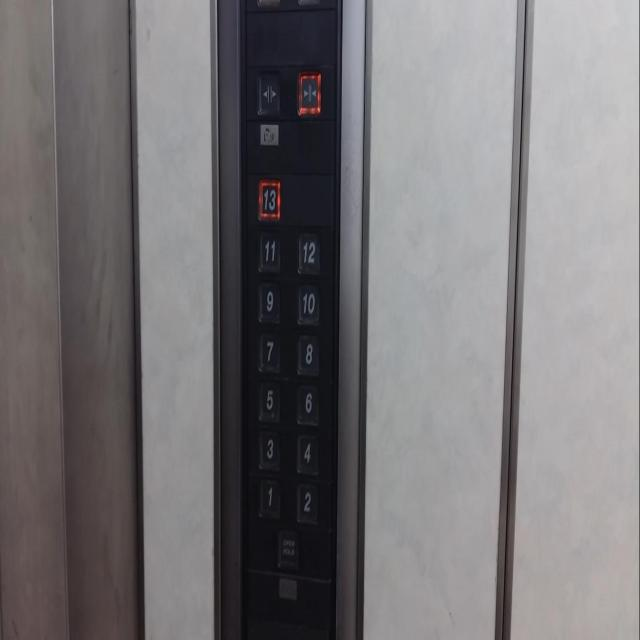1: (257, 475, 282, 521)
10: (296, 280, 321, 326)
11: (257, 226, 282, 272)
12: (295, 228, 321, 274)
13: (256, 176, 282, 222)
2: (295, 480, 320, 524)
3: (257, 425, 283, 471)
4: (296, 432, 320, 476)
5: (257, 378, 282, 423)
6: (295, 380, 321, 426)
7: (256, 326, 281, 372)
8: (295, 332, 321, 378)
9: (256, 278, 282, 324)
close: (296, 67, 322, 116)
open: (254, 68, 283, 120)
text_open: (276, 525, 300, 569)
